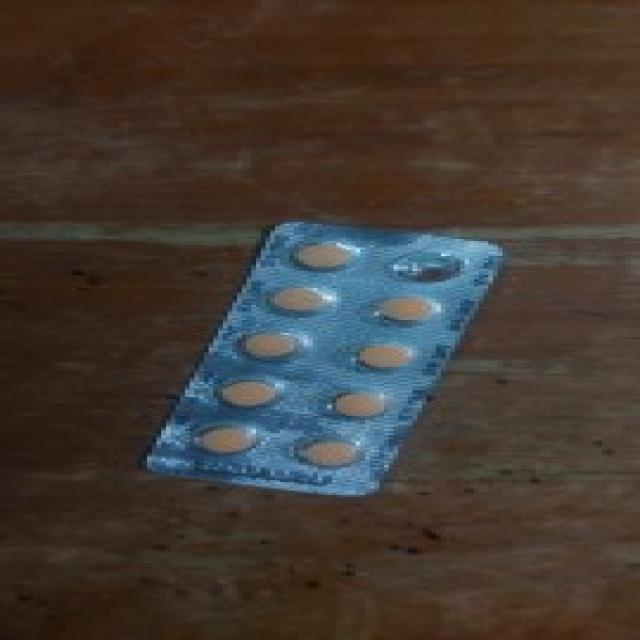Cacat: (147, 221, 505, 498)
Kemasan: (384, 242, 479, 288)
